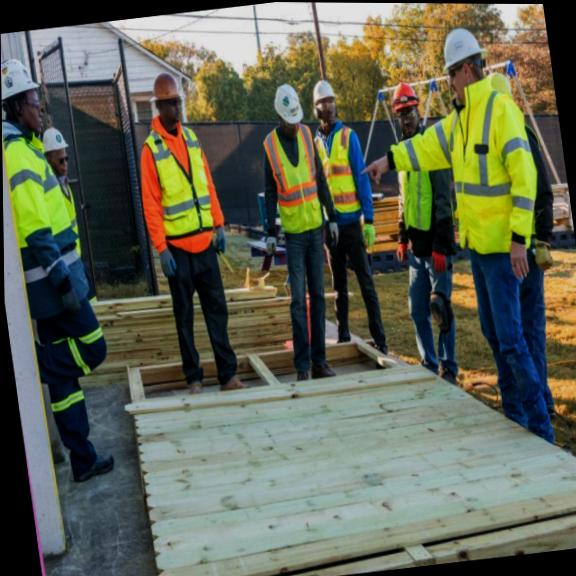safety_vest: (434, 82, 546, 261), (2, 120, 80, 325), (139, 115, 223, 250), (264, 123, 323, 232), (313, 115, 363, 213)
